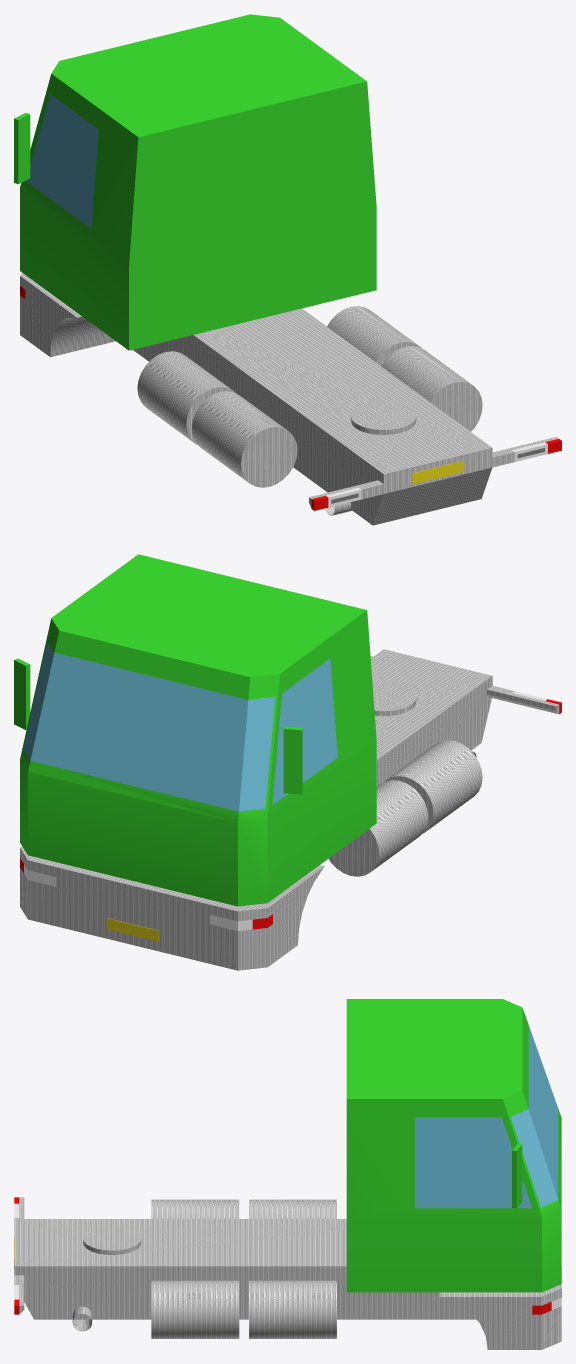
File: trailer.obj
3 views of the same model, one above another, from view 1: azimuth 30°, elevation 25°; view 2: azimuth 150°, elevation 25°; view 3: azimuth 270°, elevation 25° (orthographic). The views are drawn at different scales.
Parts seen in each view (by area): view 1: polySurface516; view 2: polySurface516; view 3: polySurface516.
Part boxes in pixels (x1,y1,x2,y2): polySurface516: [14, 14, 561, 525]; polySurface516: [14, 554, 561, 970]; polySurface516: [14, 999, 561, 1349].
Size of the model in its own units: 0.1371 by 0.1277 by 0.2522.
7 materials, 6 textured.
